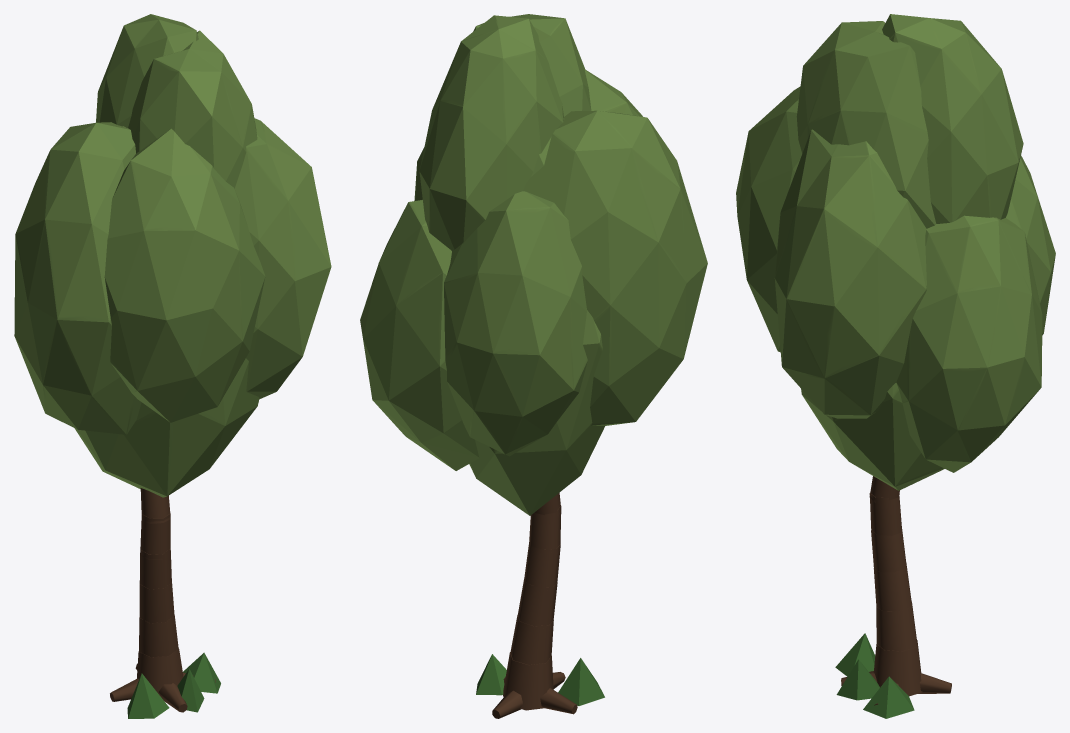
Rendered from pw_deciduous_02.glb.
The picture shows the model from 3 angles, left to right: view 1: azimuth 30°, elevation 25°; view 2: azimuth 150°, elevation 25°; view 3: azimuth 270°, elevation 25°; orthographic projection. The views are drawn at different scales.
Visible parts, largest first — view 1: tree-batch-0, space-colonized-branches (×2), vegetation-ground-tufts-baked; view 2: tree-batch-0, space-colonized-branches (×2), vegetation-ground-tufts-baked; view 3: tree-batch-0, space-colonized-branches (×2), vegetation-ground-tufts-baked.
Part boxes in pixels (x1=…): tree-batch-0: x1=14, y1=14, x2=331, y2=497; space-colonized-branches (×2): x1=110, y1=488, x2=215, y2=712; vegetation-ground-tufts-baked: x1=127, y1=652, x2=220, y2=718; tree-batch-0: x1=360, y1=14, x2=707, y2=515; space-colonized-branches (×2): x1=492, y1=493, x2=577, y2=718; vegetation-ground-tufts-baked: x1=476, y1=654, x2=604, y2=705; tree-batch-0: x1=736, y1=14, x2=1055, y2=490; space-colonized-branches (×2): x1=841, y1=476, x2=951, y2=705; vegetation-ground-tufts-baked: x1=835, y1=633, x2=914, y2=718.
Bounding box in the file's own units: 6.17 × 14.2 × 6.04.
